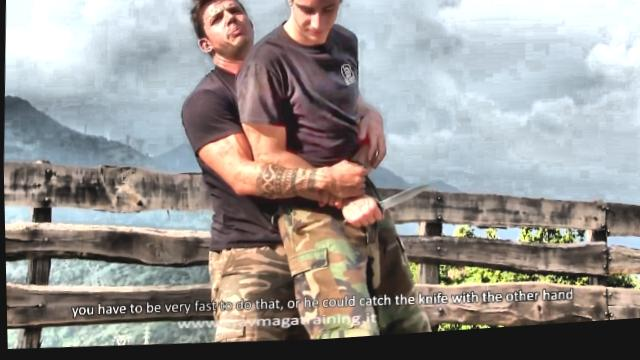knife: (338, 179, 433, 239)
